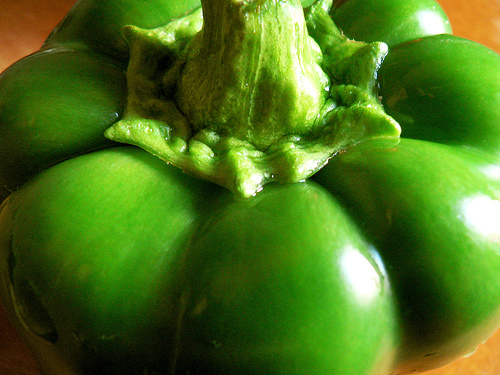capsicum: (0, 0, 499, 372)
